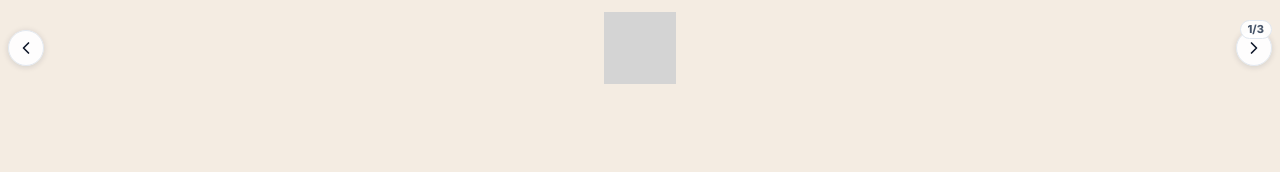
Test: sin puntos deja las flechas y un contador que no tapa la foto
Click the button named "Foto siguiente". click: coordinates (1254, 48)
box: [1236,30,1272,66]
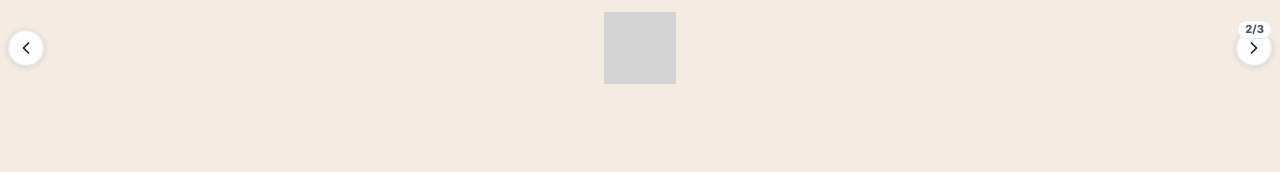
Expected: the text "2/3" is shown, [1237,20,1272,39]
